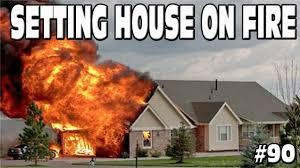fire: (0, 36, 157, 156)
